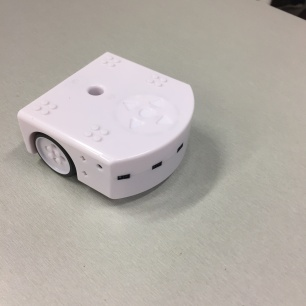thymio: (16, 49, 205, 208)
